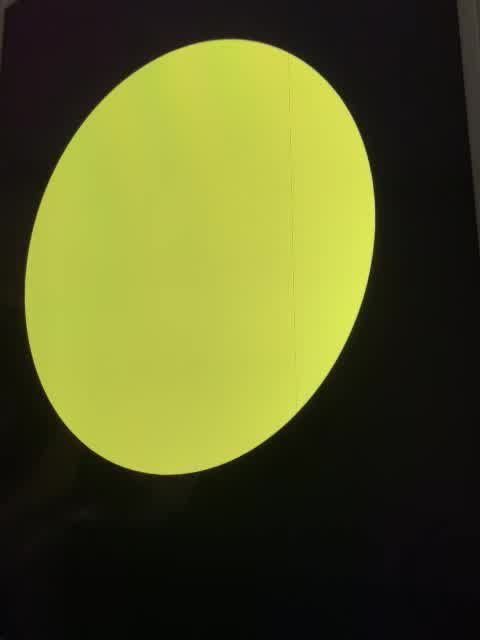left: (13, 33, 382, 481)
